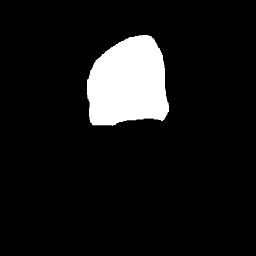mass: (88, 47, 162, 123)
